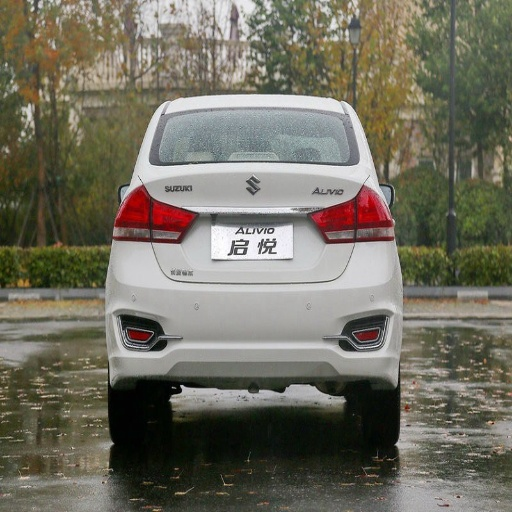back_bumper: (104, 239, 403, 377)
tailgate: (140, 162, 362, 281)
trunk: (148, 191, 217, 282)
